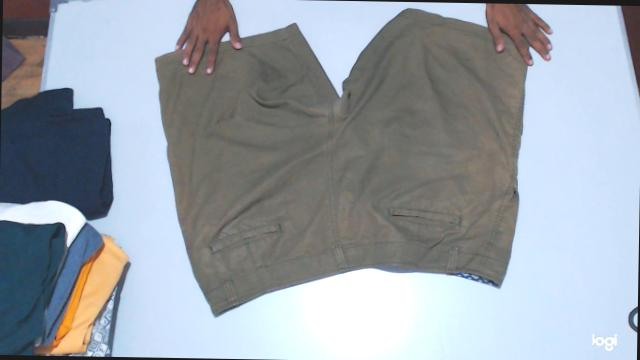new-garment: (156, 8, 527, 316)
